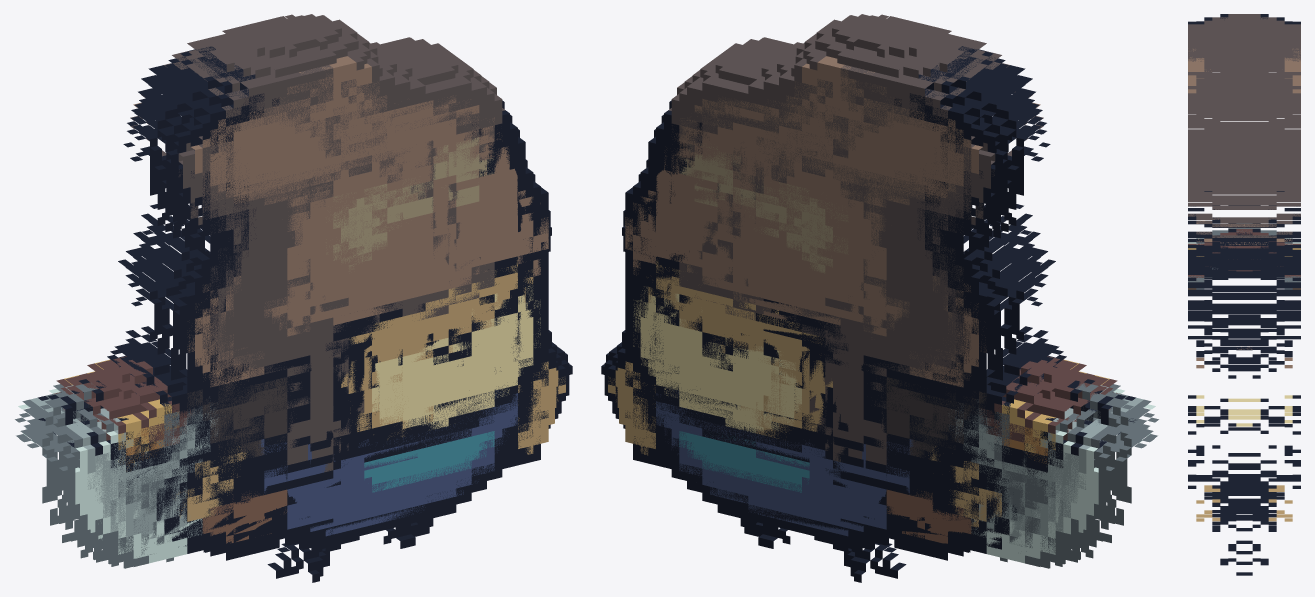
File: machado_parado.glb
3 views of the same model, side by side, from view 1: azimuth 30°, elevation 25°; view 2: azimuth 150°, elevation 25°; view 3: azimuth 270°, elevation 25° (orthographic). The views are drawn at different scales.
Visible parts, largest first — view 1: q0, q1, q2, q6, q5, q3, q7, q4; view 2: q0, q1, q2, q6, q3, q5, q7, q4; view 3: q2, q3, q1, q0, q6, q4, q5, q7.
Boxes of the visible parts, x1,y1,x2,y2 form: q0: (15,71,540,582); q1: (30,79,561,568); q2: (43,14,565,555); q6: (27,22,520,567); q5: (39,45,533,551); q3: (49,14,572,544); q7: (19,34,531,560); q4: (52,72,558,544); q0: (633,71,1158,582); q1: (612,79,1143,568); q2: (608,14,1130,556); q6: (652,22,1146,563); q3: (601,14,1124,546); q5: (640,46,1134,551); q7: (641,40,1154,560); q4: (615,72,1125,544); q2: (1188,36,1300,516); q3: (1188,40,1300,520); q1: (1188,57,1300,520); q0: (1188,74,1300,575); q6: (1188,14,1300,481); q4: (1188,60,1300,531); q5: (1188,44,1300,521); q7: (1188,17,1300,503).
Size of the model in its own units: 69 by 67 by 14.
Materials: 1 (1 with a texture image).
